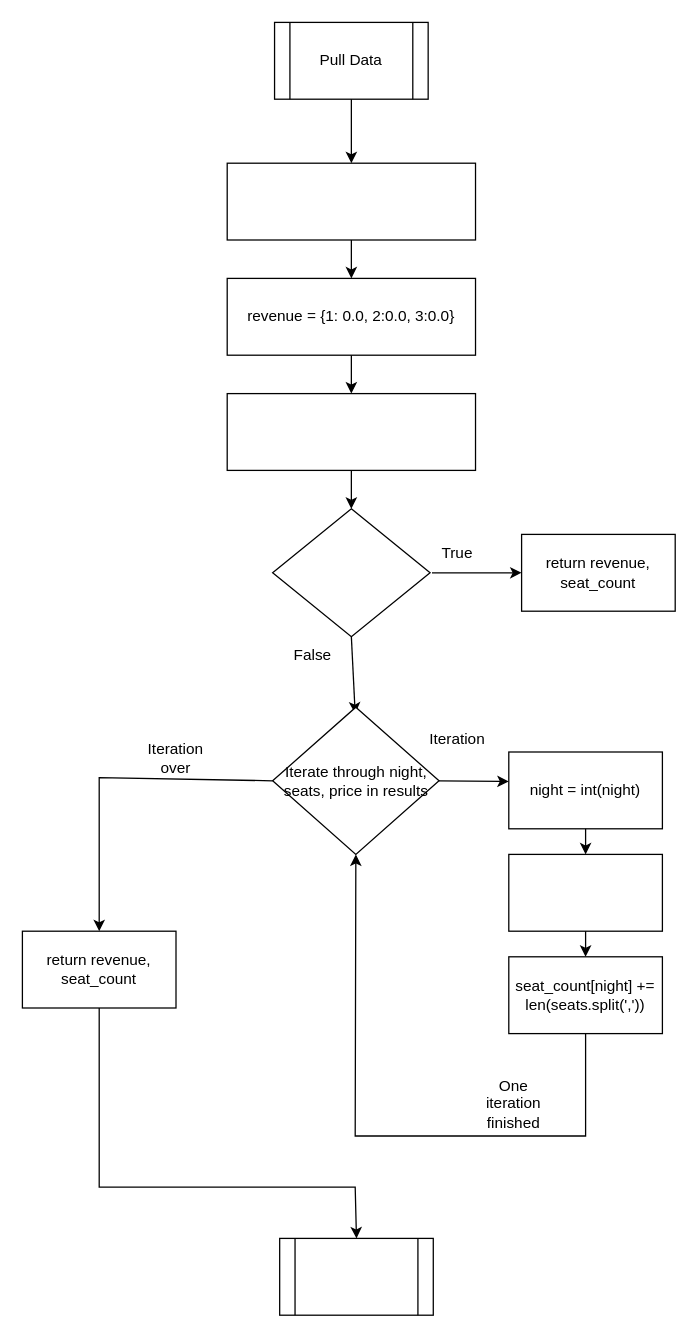
Some shapes in this 698 by 1338 pixel diagram are drawn without their labels. The box of each missing label's shape, as (x1, y1, x2, y2) in pixels:
if no result: (271, 508, 430, 637)
result = call credential_connect: (226, 162, 476, 240)
revenue[night[ += float(price): (508, 853, 662, 931)
seat_count = {1:0, 2:0, 3:0}: (226, 392, 476, 470)
